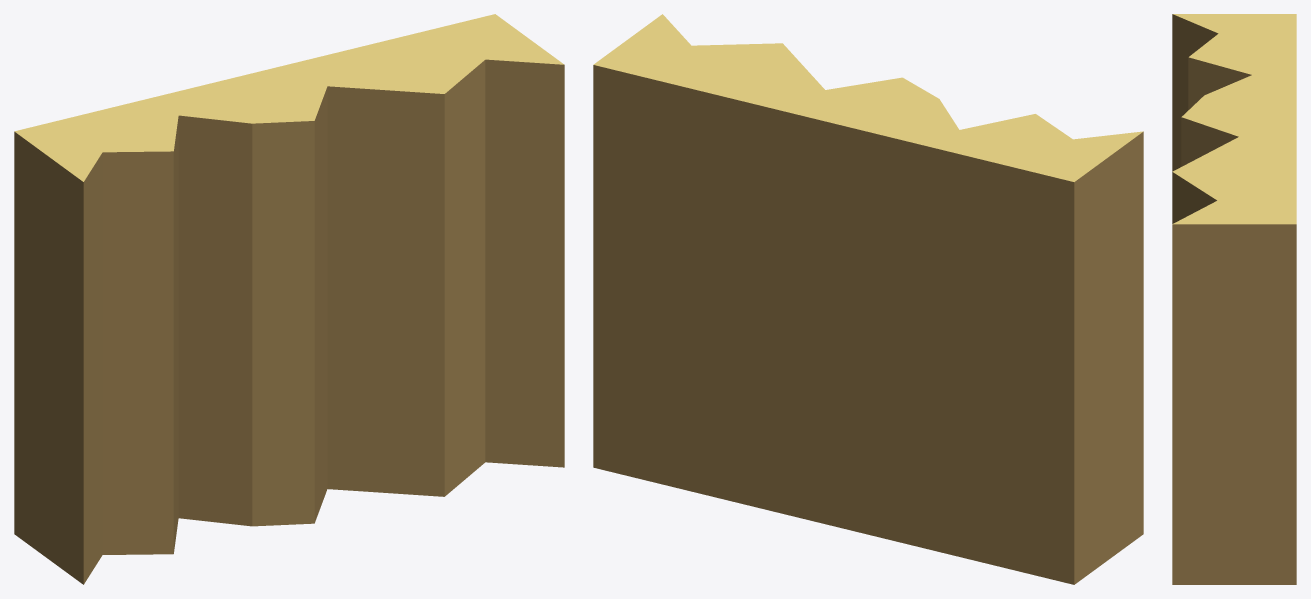
Rendered from Terrain_Modular_Tiles_Sand_Dirt_Cliff_Side_02.fbx.
3 renders of one model, left to right at view 1: azimuth 30°, elevation 25°; view 2: azimuth 150°, elevation 25°; view 3: azimuth 270°, elevation 25°, orthographic. The views are drawn at different scales.
Parts seen in each view (by area): view 1: Terrain_Modular_Tiles_Sand_Dirt_Cliff_Side_02; view 2: Terrain_Modular_Tiles_Sand_Dirt_Cliff_Side_02; view 3: Terrain_Modular_Tiles_Sand_Dirt_Cliff_Side_02.
Part boxes in pixels (x1,y1,x2,y2): Terrain_Modular_Tiles_Sand_Dirt_Cliff_Side_02: (14,14,564,584); Terrain_Modular_Tiles_Sand_Dirt_Cliff_Side_02: (593,14,1143,584); Terrain_Modular_Tiles_Sand_Dirt_Cliff_Side_02: (1172,14,1296,584).
Size of the model in its own units: 118 by 94.49 by 29.53.
